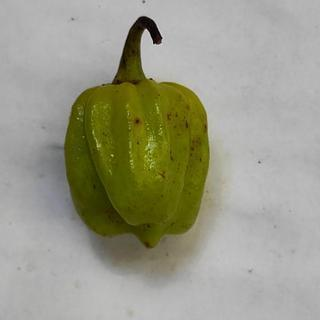Fly-bites: (131, 116, 142, 127), (90, 181, 99, 192), (144, 222, 153, 232), (165, 111, 173, 122), (183, 118, 191, 129), (188, 145, 195, 155), (202, 121, 208, 131), (169, 154, 175, 162)
